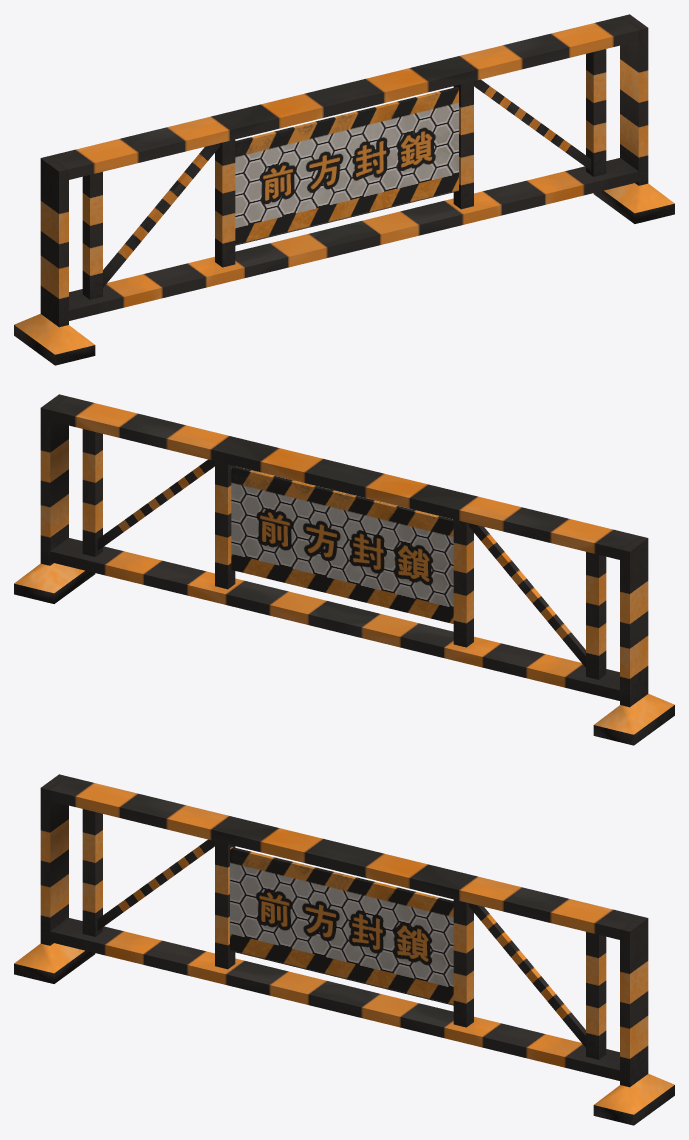
The model's file is jiedao_BJ_010.fbx.
The picture shows the model from 3 angles, top to bottom: view 1: azimuth 30°, elevation 25°; view 2: azimuth 150°, elevation 25°; view 3: azimuth 330°, elevation 25°; orthographic projection.
Parts seen in each view (by area): view 1: BJ010; view 2: BJ010; view 3: BJ010.
Part boxes in pixels (x1,y1,x2,y2): BJ010: [14, 14, 674, 365]; BJ010: [14, 394, 674, 745]; BJ010: [14, 774, 674, 1125].
Size of the model in its own units: 241 by 27.69 by 67.64.
